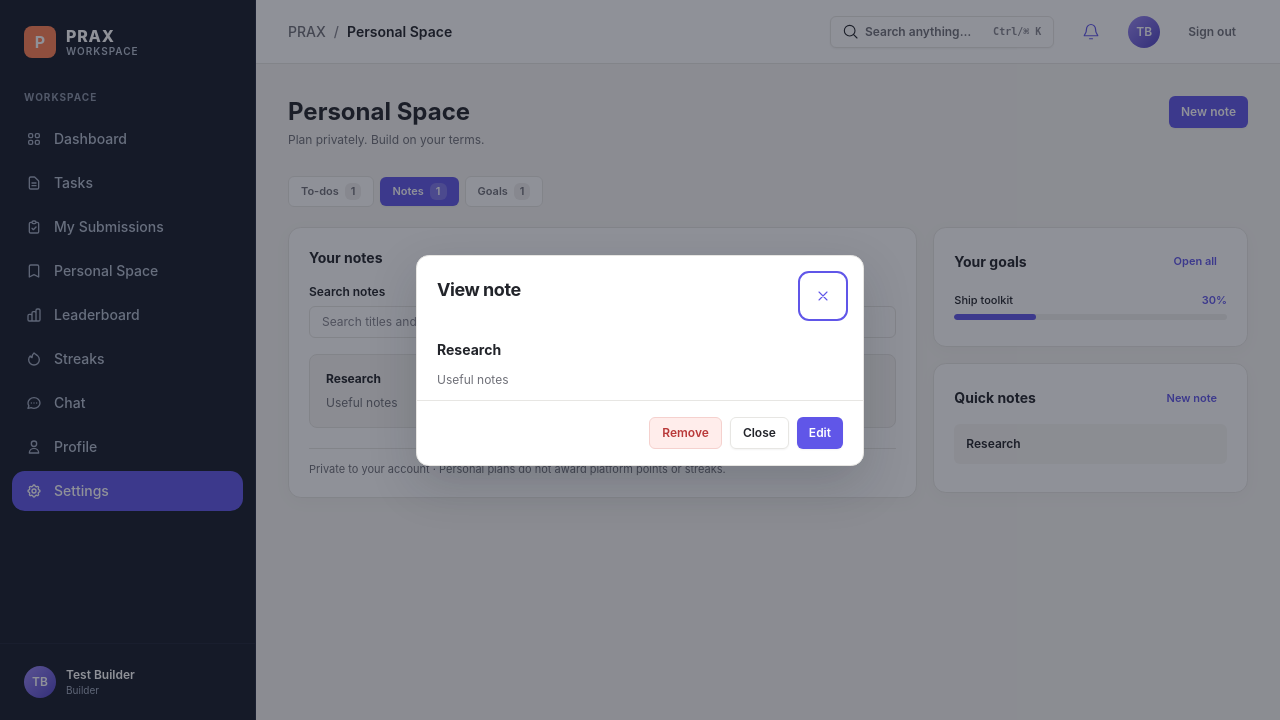
functional member controls › switches goals, opens quick notes and honors item deep links
This screenshot has width=1280, height=720.
Check: the dialog "View note" is shown, box top-left (416, 254), bottom-right (864, 466)
Click the button "Close" at [759, 432], box top-left (730, 416), bottom-right (789, 448)
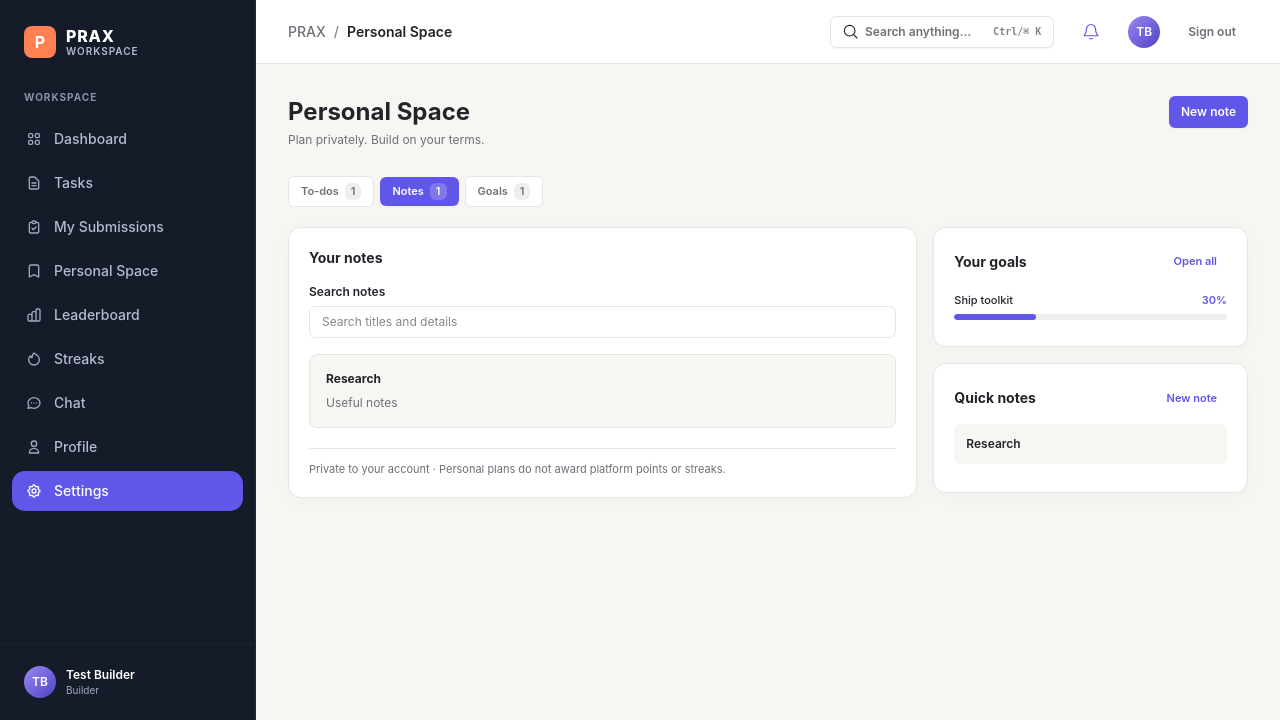
Click the button "Open all" at [1195, 262], box top-left (1164, 248), bottom-right (1227, 276)
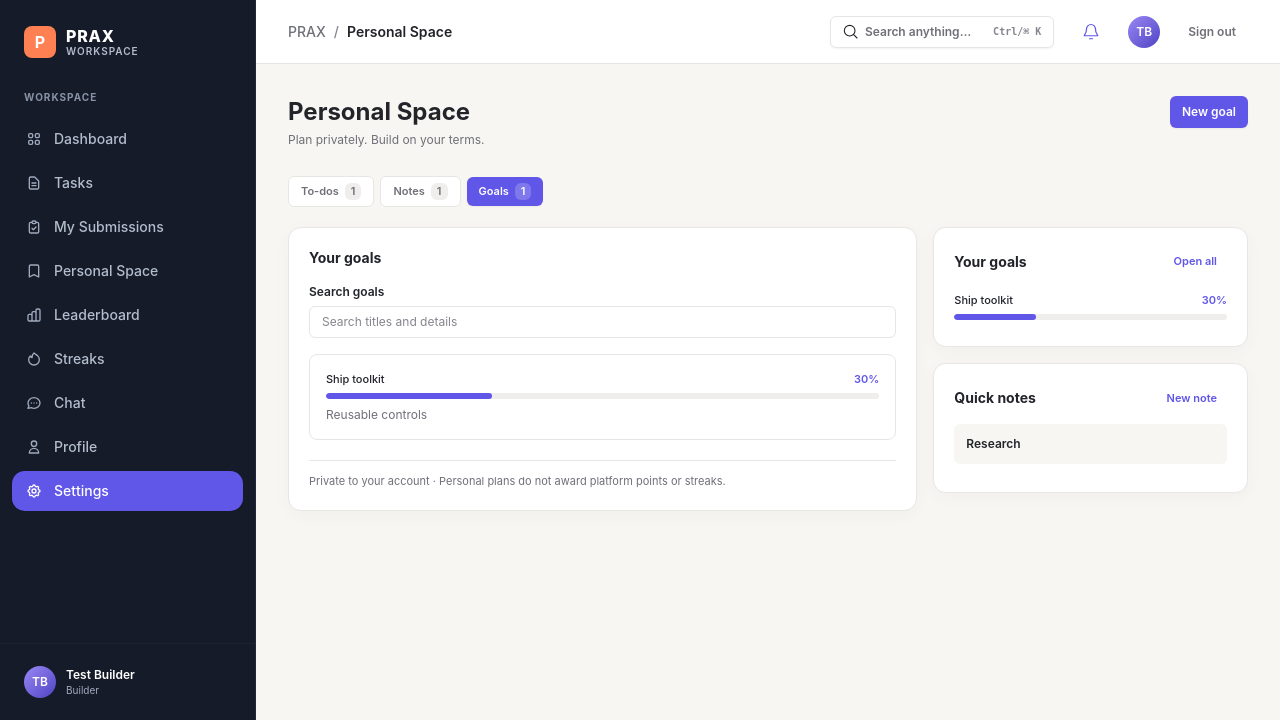
Check: the tab "Goals 1" is selected, box top-left (466, 177), bottom-right (544, 206)
Click the button "New note" at [1192, 398], box top-left (1157, 384), bottom-right (1227, 412)
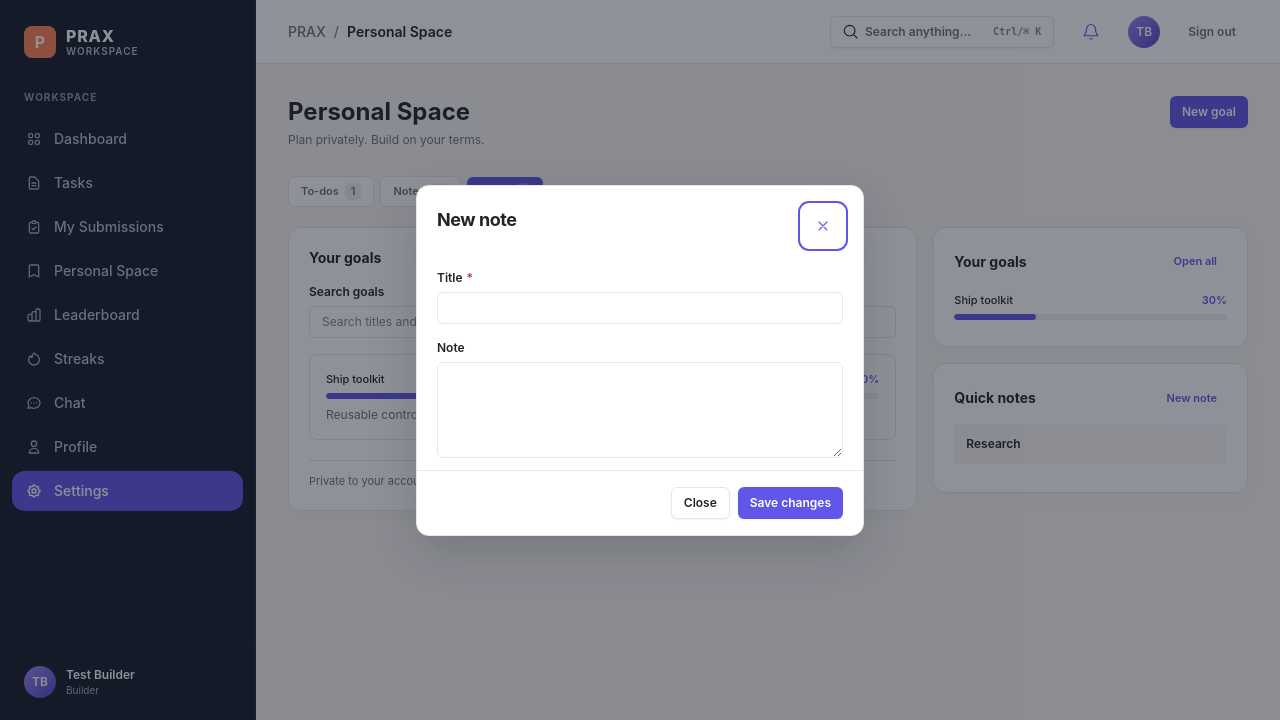
Check: the dialog "New note" is shown, box top-left (416, 184), bottom-right (864, 536)
